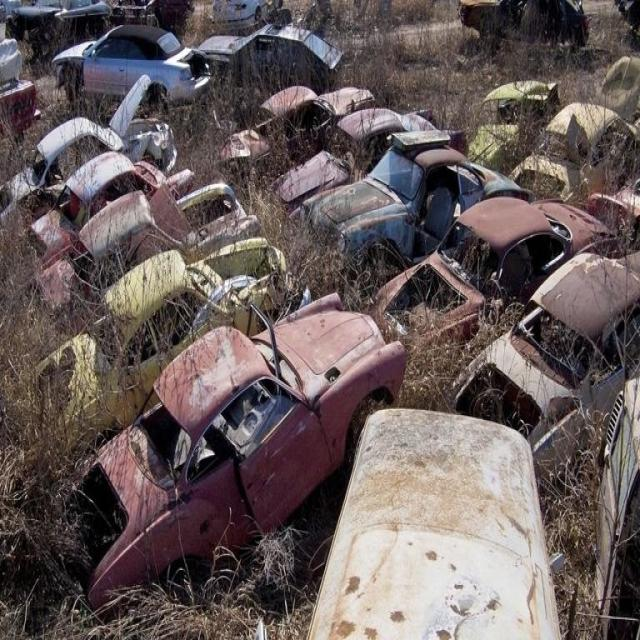Metal: (3, 1, 640, 632)
